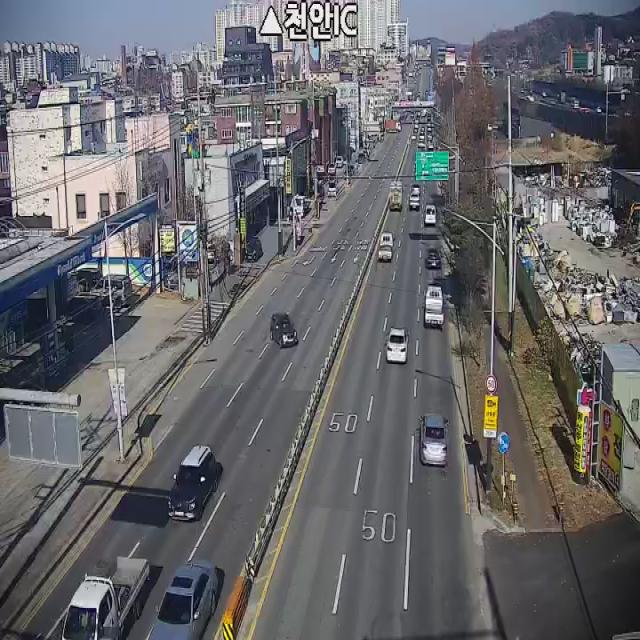Car: (150, 562, 218, 640), (168, 445, 217, 521), (419, 413, 449, 470), (90, 274, 132, 306), (270, 312, 298, 347), (386, 325, 408, 363), (245, 237, 262, 260), (426, 245, 442, 269), (423, 205, 438, 226), (408, 192, 419, 212), (314, 160, 327, 173), (411, 184, 421, 197), (335, 154, 344, 167), (328, 162, 336, 174)
Truck: (60, 557, 150, 640), (425, 285, 443, 326), (378, 232, 395, 260), (389, 181, 403, 211)
